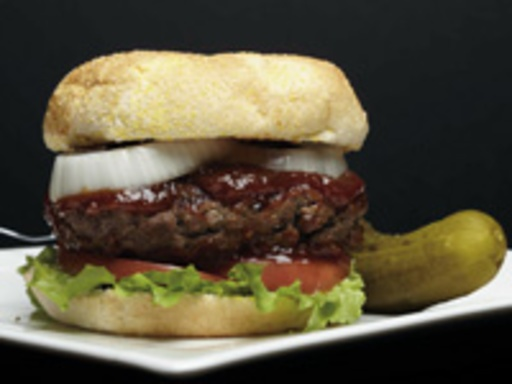background: (14, 29, 406, 202)
